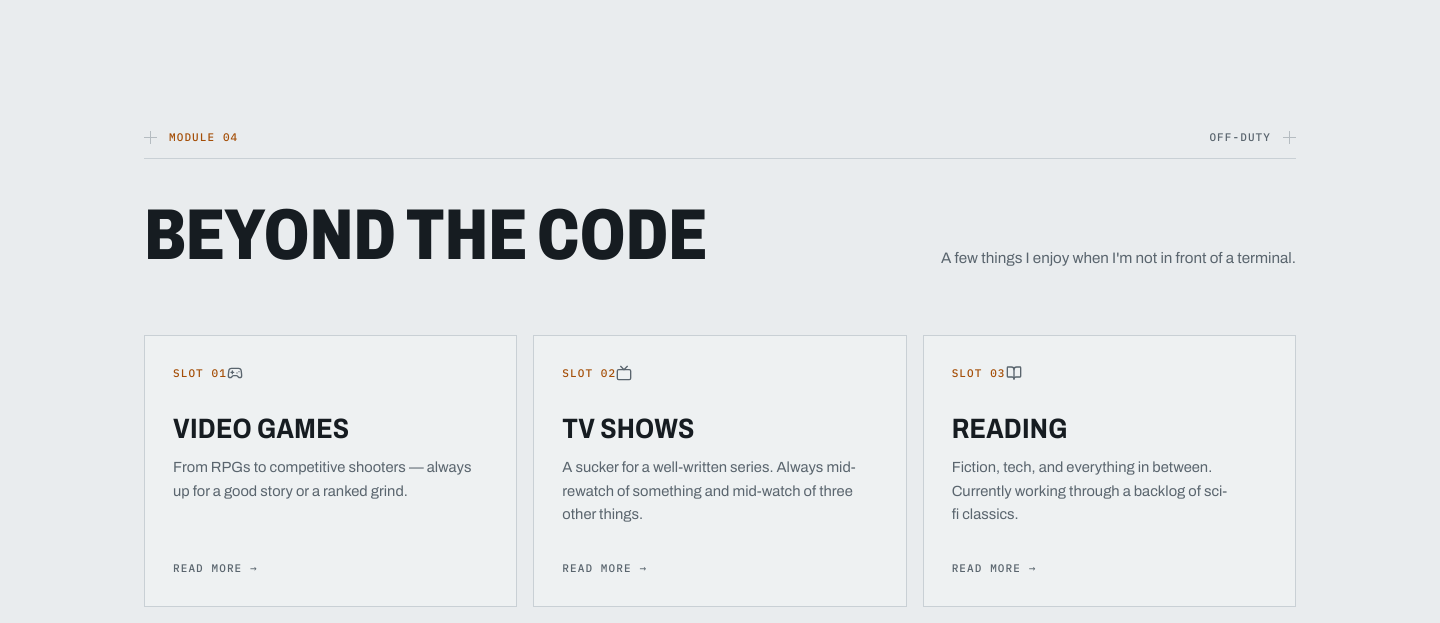
Hobbies – detail view › opens the detail view when a hobby card is clicked
The width and height of the screenshot is (1440, 623).
Click the button "Video Games" at (331, 471), box top-left (144, 335), bottom-right (517, 606)
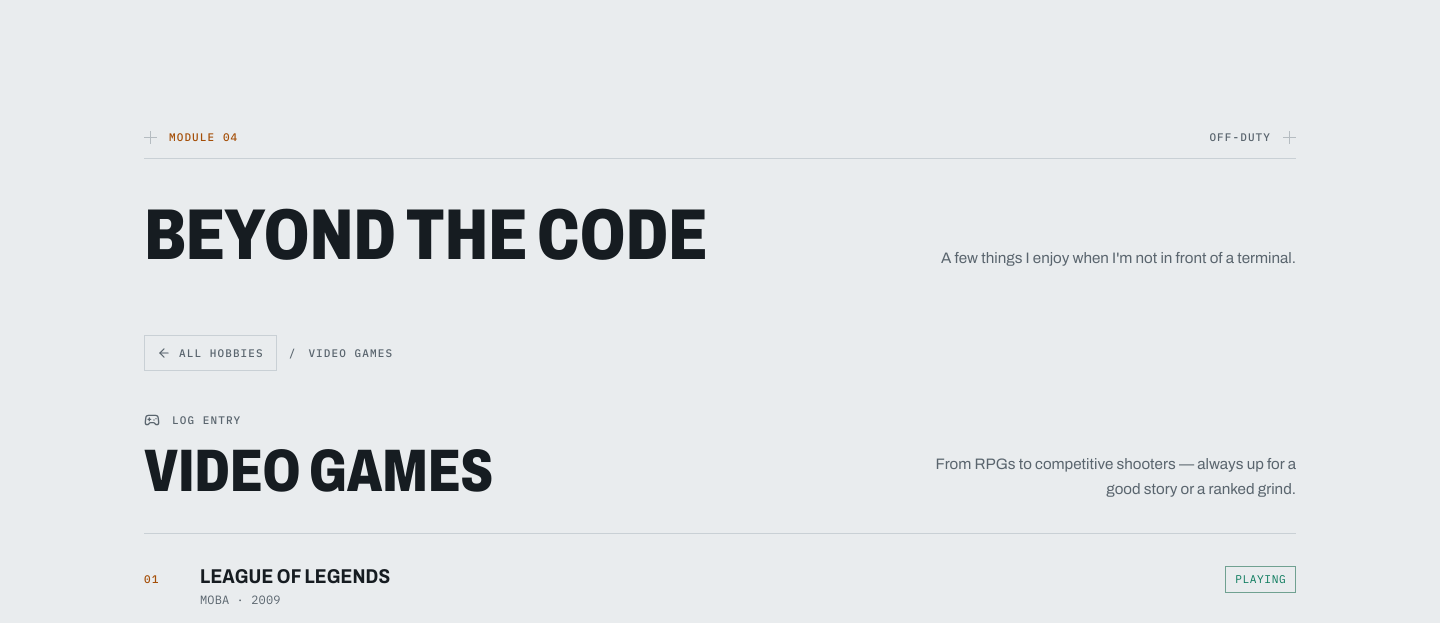
Check: the button "All Hobbies" is shown, box top-left (144, 335), bottom-right (277, 371)
